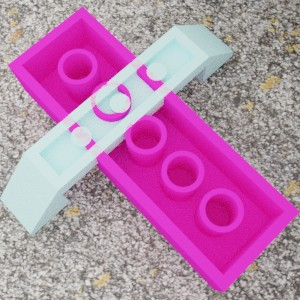lego: (7, 6, 300, 292), (0, 24, 233, 235)
